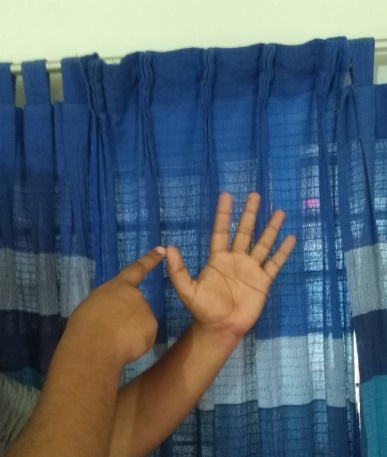a: (102, 193, 292, 346)
